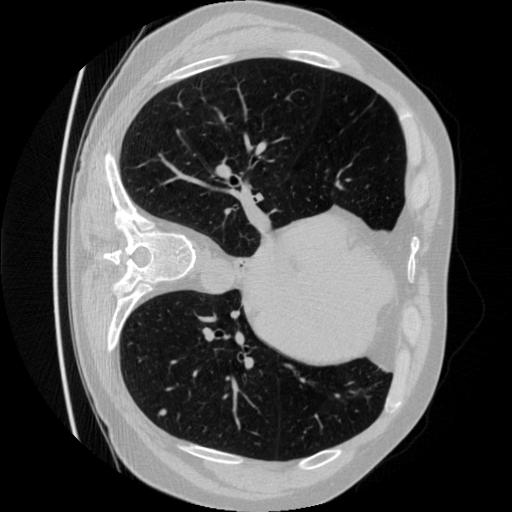nodule: (158, 406, 171, 419)
